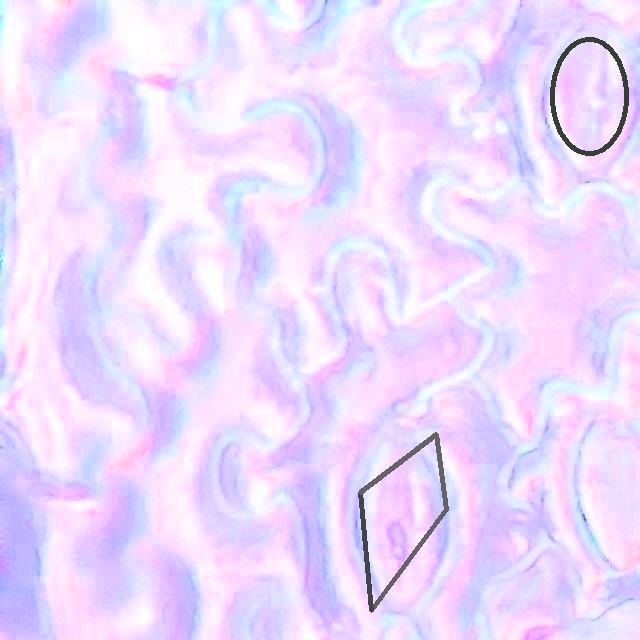close: (549, 36, 629, 157)
open: (359, 432, 447, 611)
